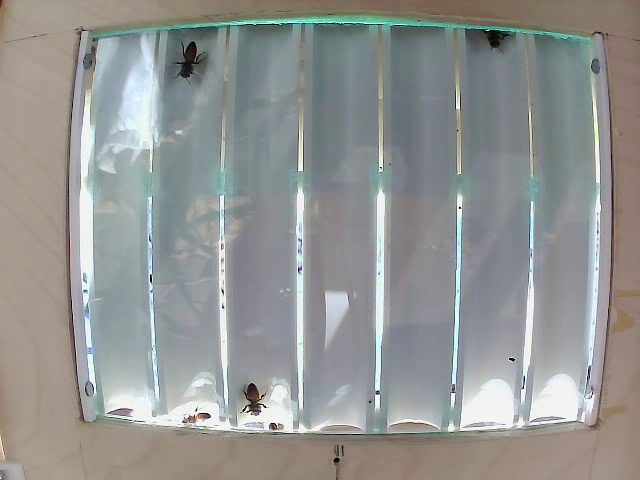bee: (235, 374, 280, 419), (172, 35, 213, 68)
